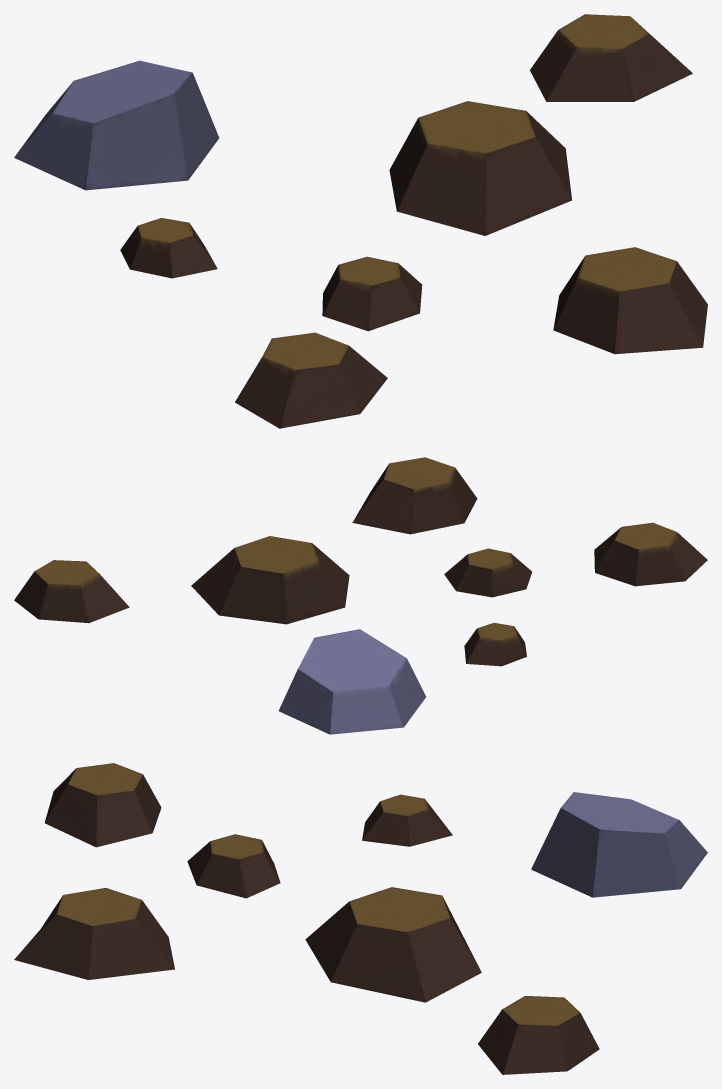
File: tile_wood_3_ruin_lod2.fbx
The picture shows the model from 3 angles, top to bottom: view 1: azimuth 30°, elevation 25°; view 2: azimuth 150°, elevation 25°; view 3: azimuth 270°, elevation 25°; orthographic projection. The views are drawn at different scales.
Parts seen in each view (by area): view 1: wood_3_ruin_lod2; view 2: wood_3_ruin_lod2; view 3: wood_3_ruin_lod2.
Part boxes in pixels (x1=…): wood_3_ruin_lod2: x1=14, y1=14, x2=707, y2=428; wood_3_ruin_lod2: x1=14, y1=457, x2=707, y2=734; wood_3_ruin_lod2: x1=14, y1=763, x2=707, y2=1074.
Bounding box in the file's own units: 0.0475 × 0.0049 × 0.0487.
